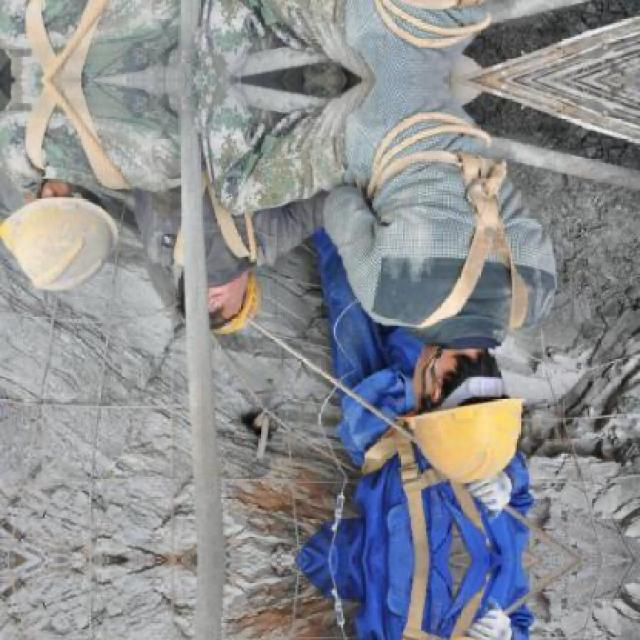con casco: (347, 270, 551, 487)
